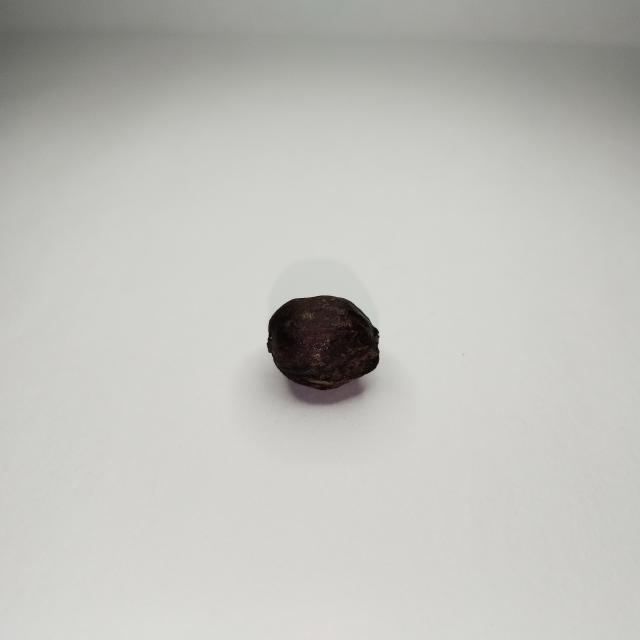Danado: (268, 295, 378, 390)
